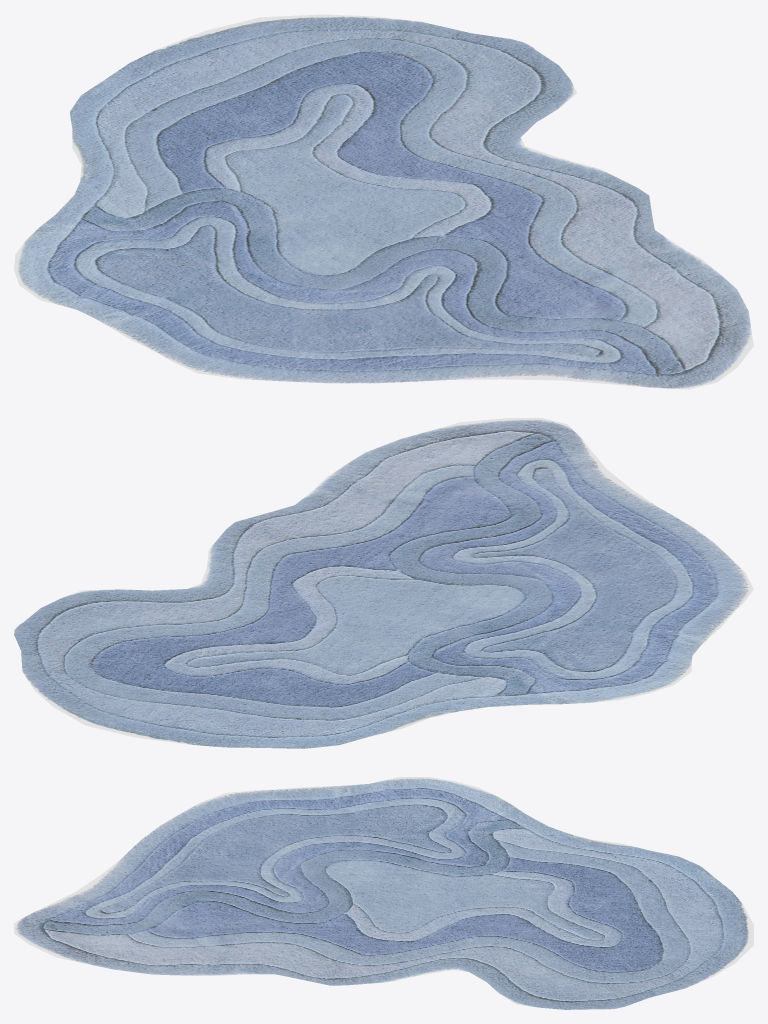
Rendered from blue carpet.glb.
The picture shows the model from 3 angles, top to bottom: view 1: azimuth 30°, elevation 25°; view 2: azimuth 150°, elevation 25°; view 3: azimuth 270°, elevation 25°; orthographic projection. The views are drawn at different scales.
Parts seen in each view (by area): view 1: Plane.018; view 2: Plane.018; view 3: Plane.018.
Boxes of the visible parts, x1,y1,x2,y2 form: Plane.018: (14, 14, 753, 389); Plane.018: (14, 418, 753, 748); Plane.018: (14, 777, 753, 1009).
Size of the model in its own units: 3.54 by 0 by 4.76.
Materials: 1 (1 with a texture image).
